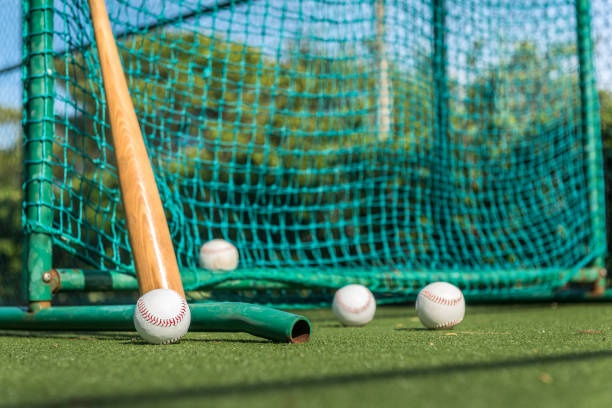bita: (88, 1, 181, 304)
